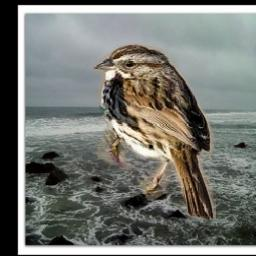Sparrow: (91, 40, 215, 220)
